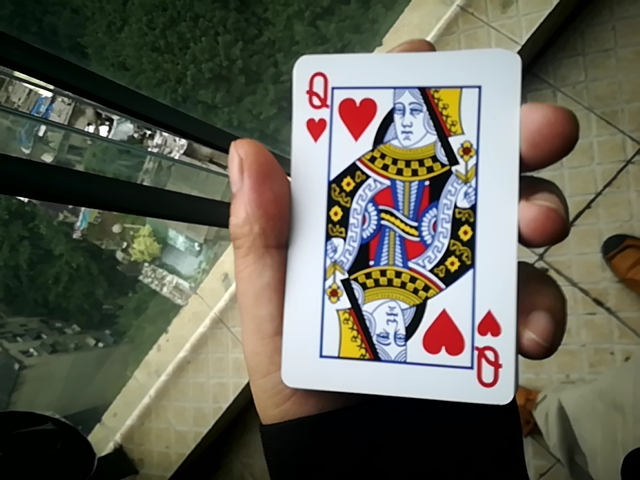hx q: (277, 66, 522, 402)
